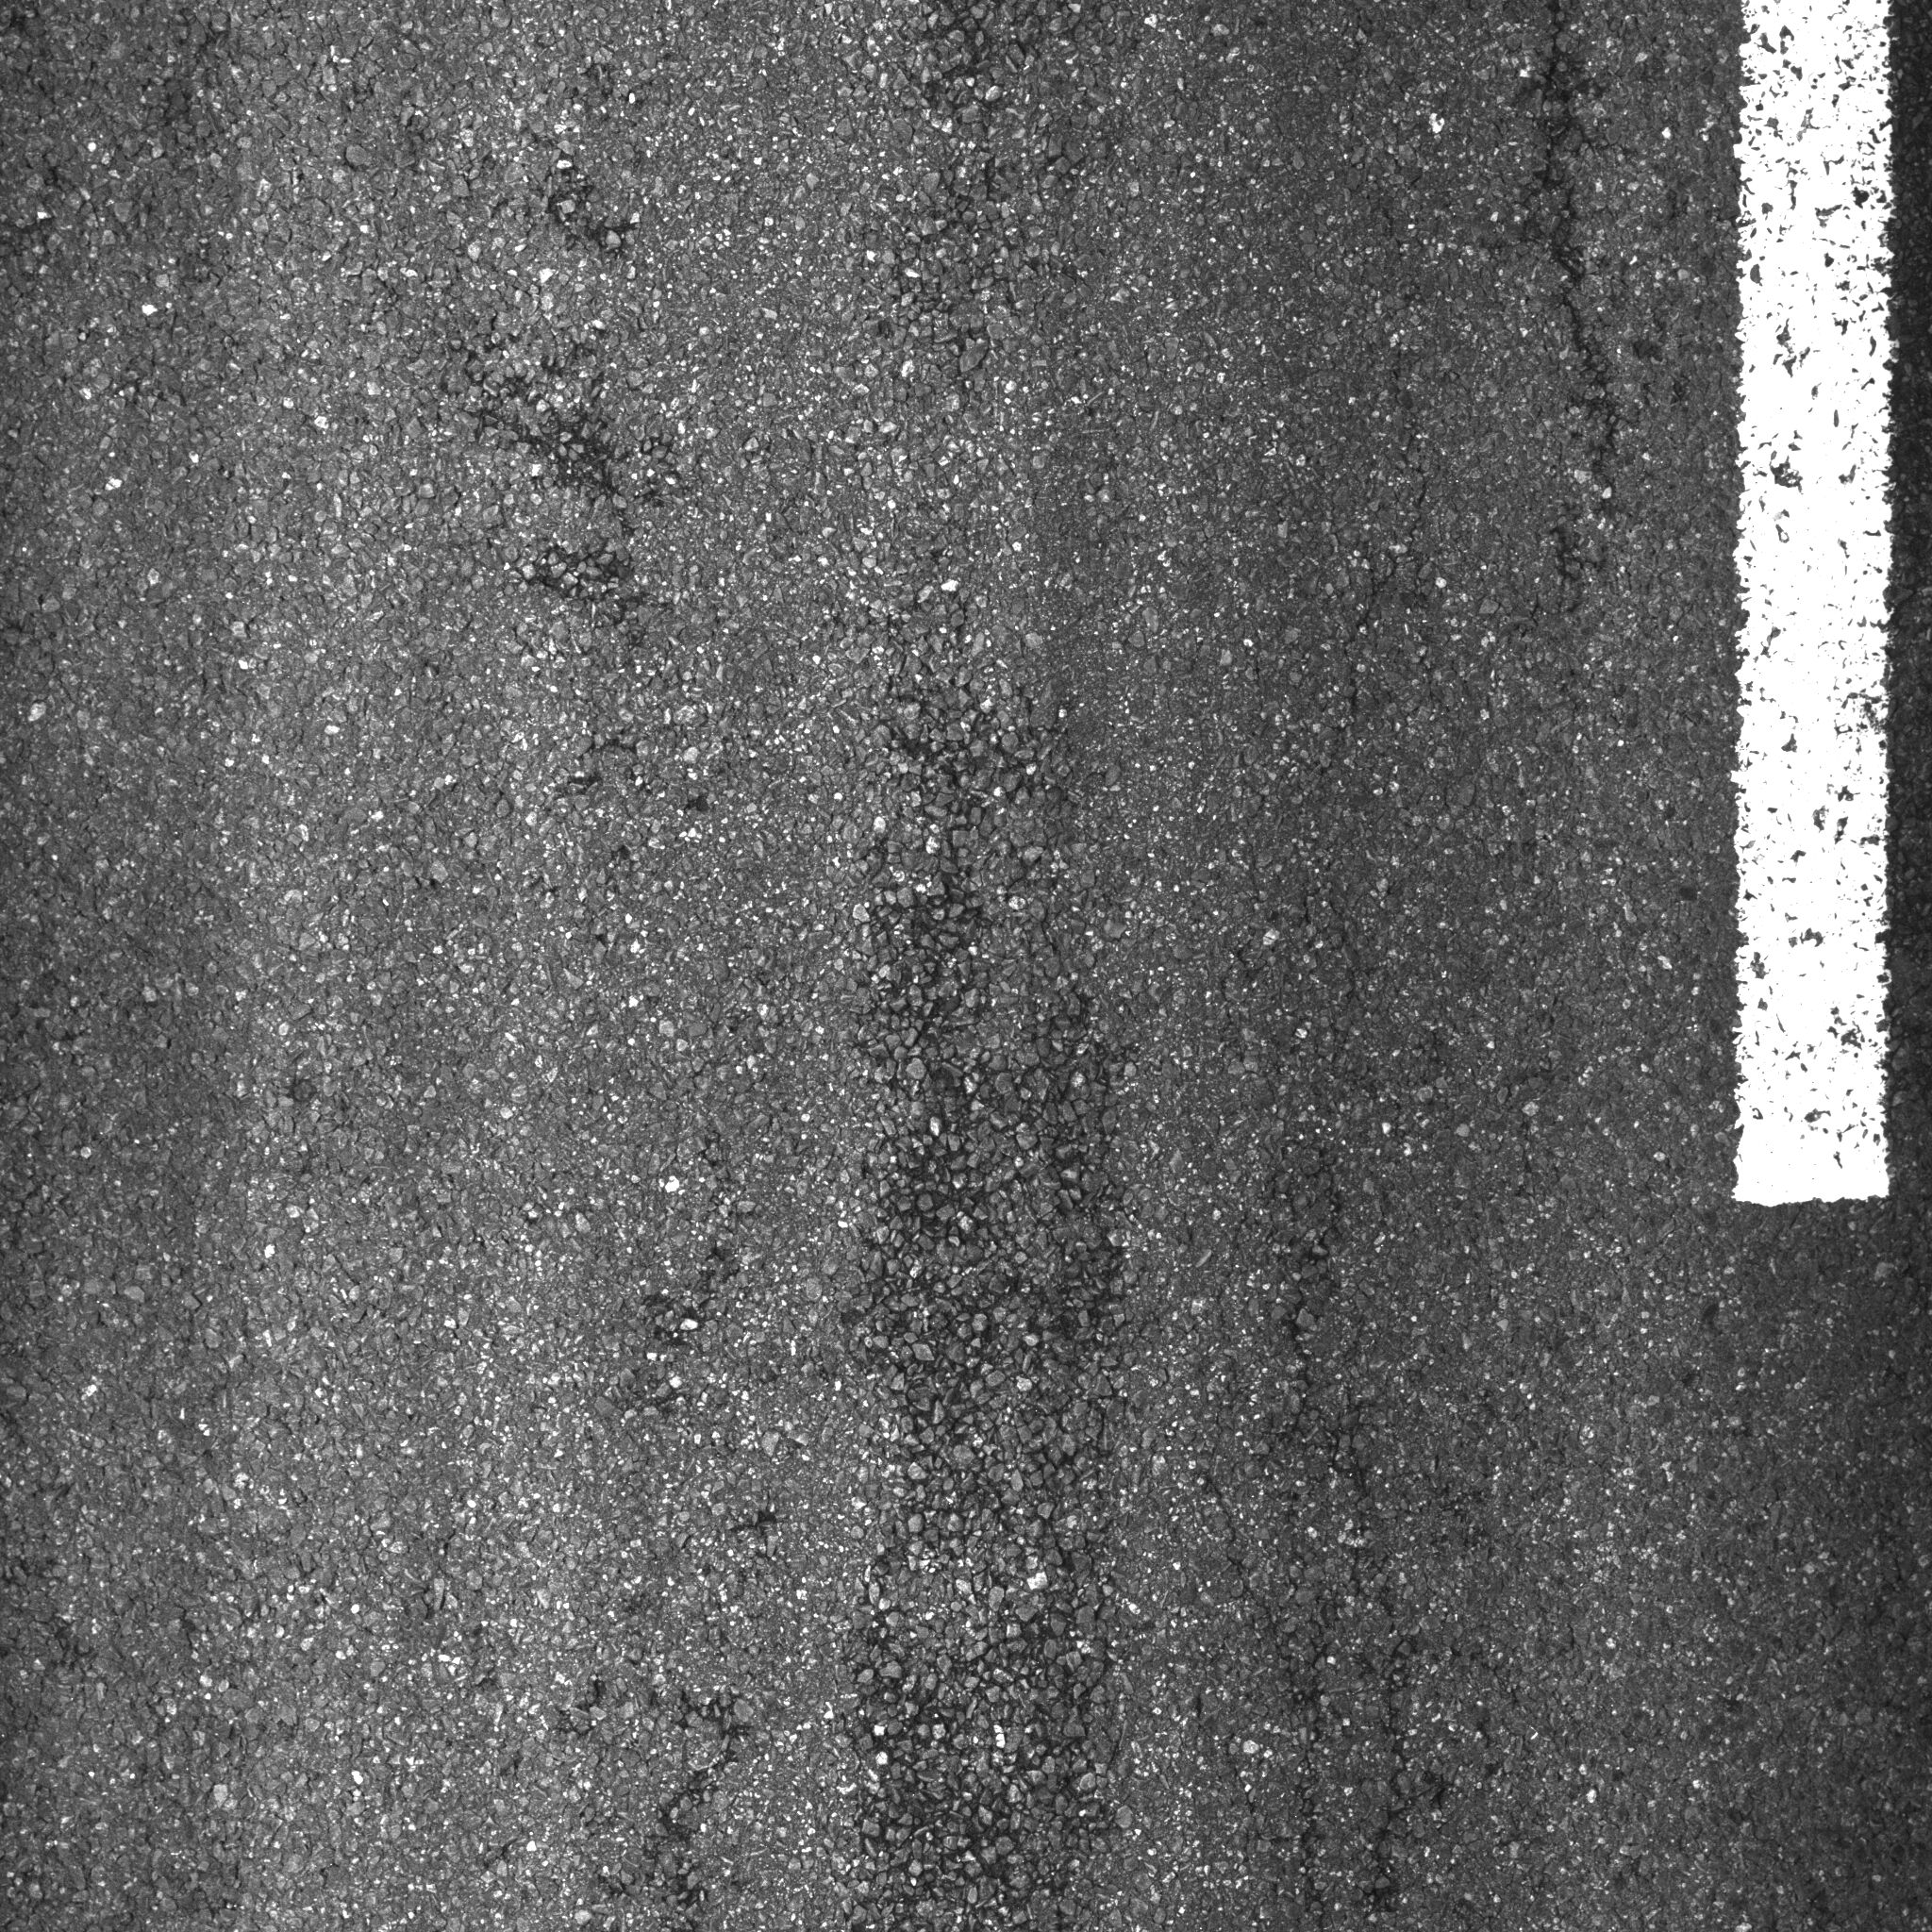longitudinal: (1173, 644, 1472, 1907), (1488, 7, 1658, 518)
